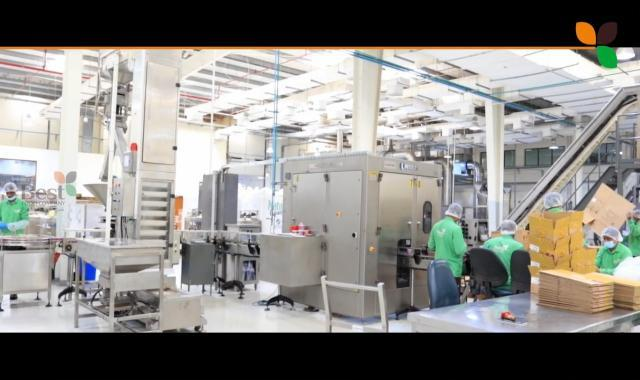hairnet: (602, 226, 626, 244), (444, 200, 462, 220), (543, 191, 562, 209), (501, 220, 516, 236), (4, 182, 16, 198)
